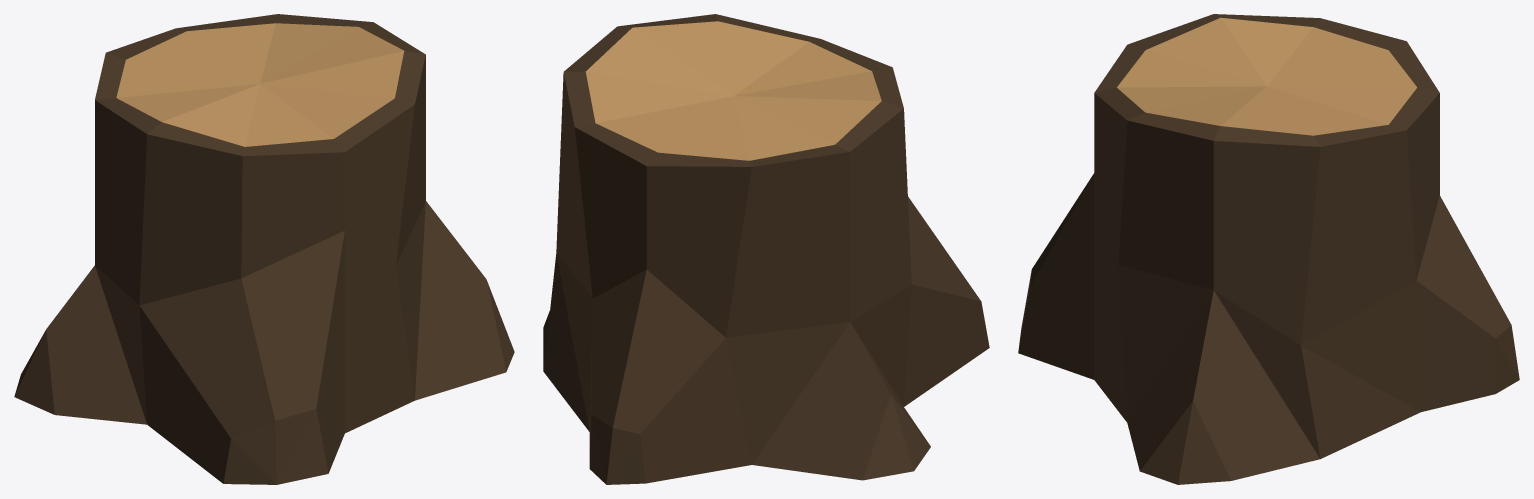
The model's file is tree_stump - Copy.glb.
3 views of the same model, side by side, from view 1: azimuth 30°, elevation 25°; view 2: azimuth 150°, elevation 25°; view 3: azimuth 270°, elevation 25° (orthographic). The views are drawn at different scales.
Visible parts, largest first — view 1: Stump.01; view 2: Stump.01; view 3: Stump.01.
Boxes of the visible parts, x1,y1,x2,y2 form: Stump.01: [14, 14, 514, 484]; Stump.01: [543, 14, 989, 484]; Stump.01: [1018, 14, 1519, 484].
Bounding box in the file's own units: 0.5213 × 0.364 × 0.5264.
Materials: 2 (2 with a texture image).
